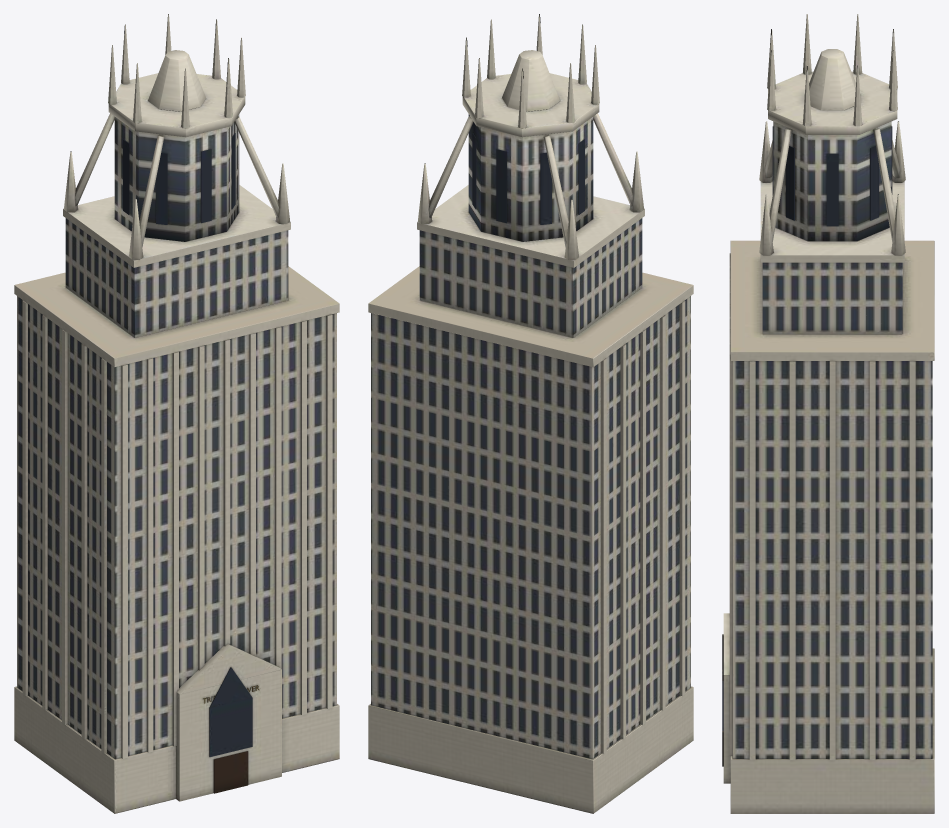
The model's file is tribune_tower.glb.
3 renders of one model, left to right at view 1: azimuth 30°, elevation 25°; view 2: azimuth 150°, elevation 25°; view 3: azimuth 270°, elevation 25°, orthographic.
Parts seen in each view (by area): view 1: tribune_tower; view 2: tribune_tower; view 3: tribune_tower.
Part boxes in pixels (box(x1,y1,x2,y2)): tribune_tower: box(14, 14, 339, 813); tribune_tower: box(368, 14, 693, 813); tribune_tower: box(722, 14, 934, 813).
Bounding box in the file's own units: 26.6 × 79.3 × 21.21.
Materials: 1 (1 with a texture image).
